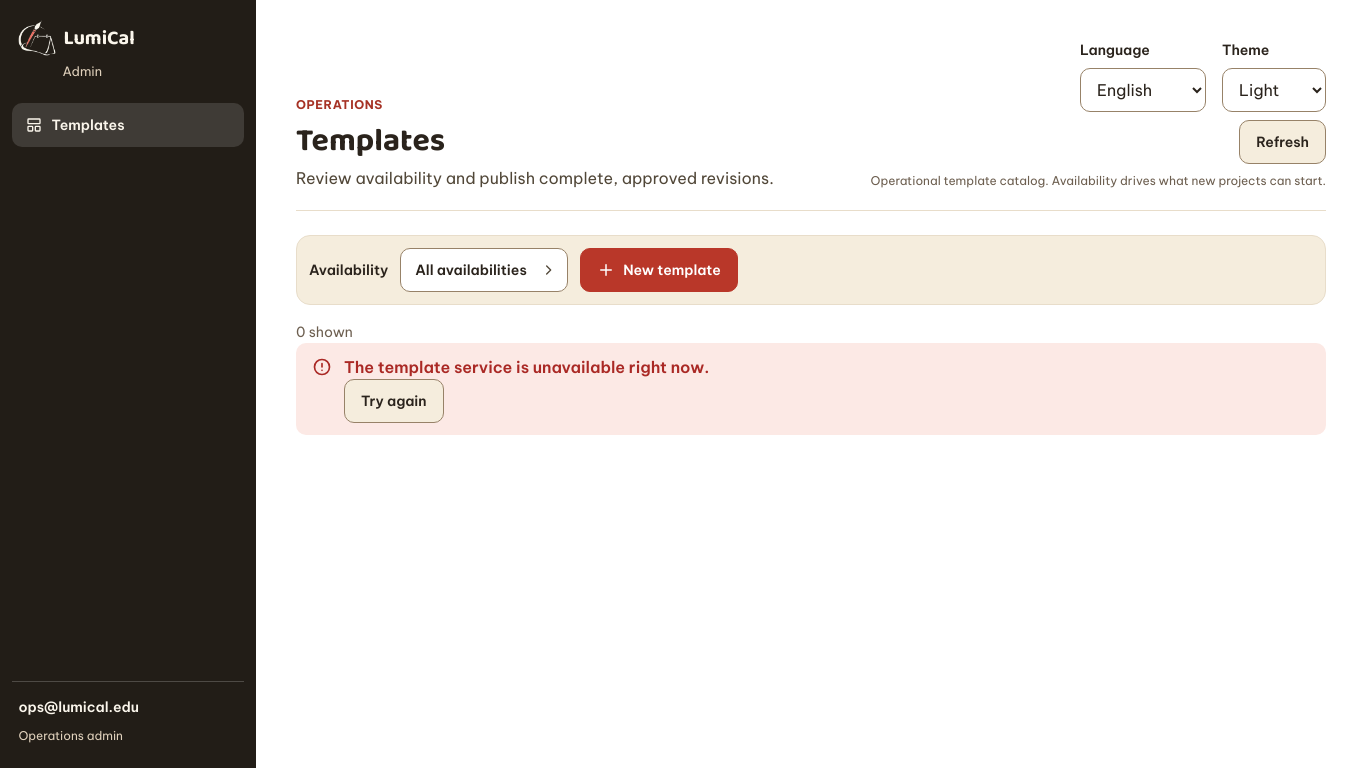
admin template list (F1) › shows an explicit retry when the first page fails
Check: the message shows "The template service is unavailable right now.", box [344,357,709,377]
What coordinates should you click on to do the following:
click the button "Try again"
I would click on:
 (394, 401)
Its box is [344,379,444,423].
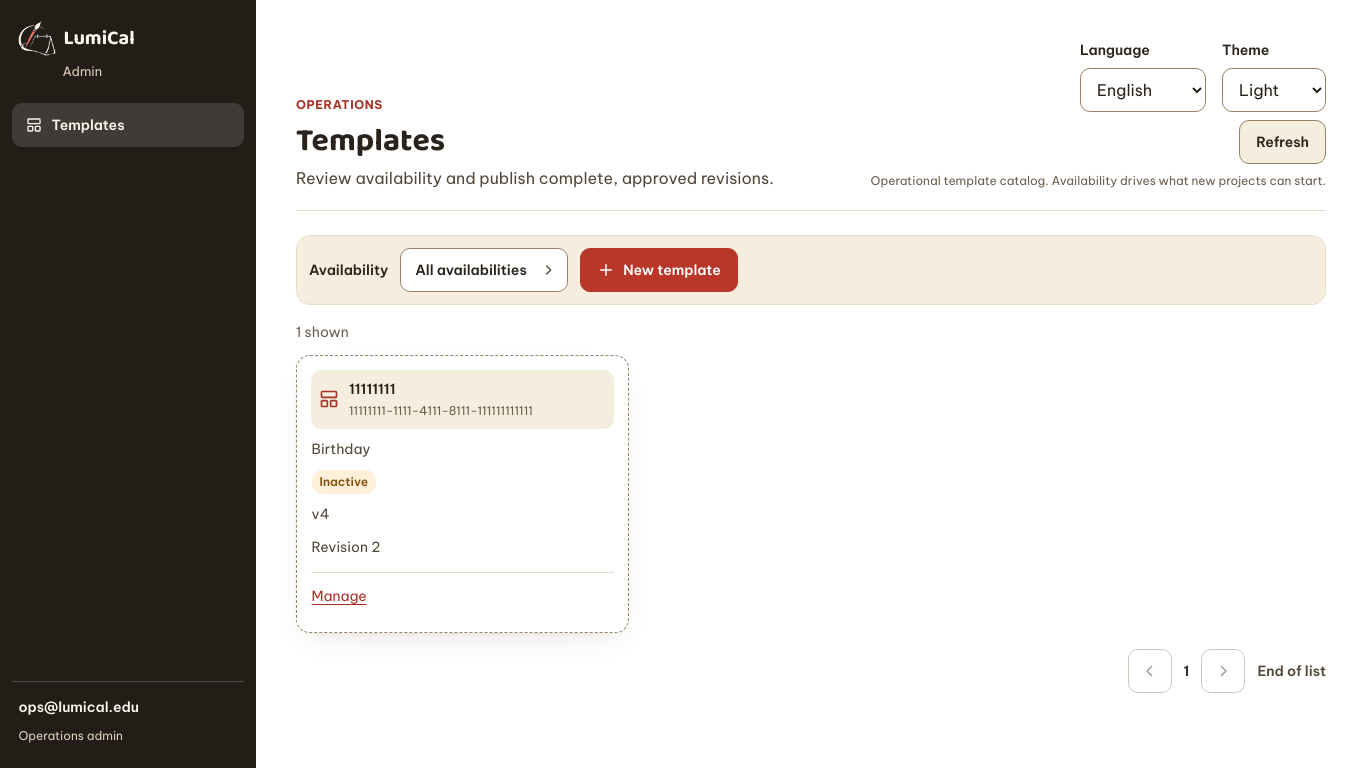
Check: the link "Manage" is shown, box [312,587,367,605]
